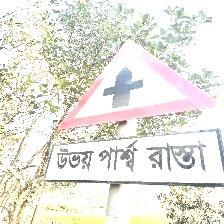Crossroad: (52, 40, 222, 196)
